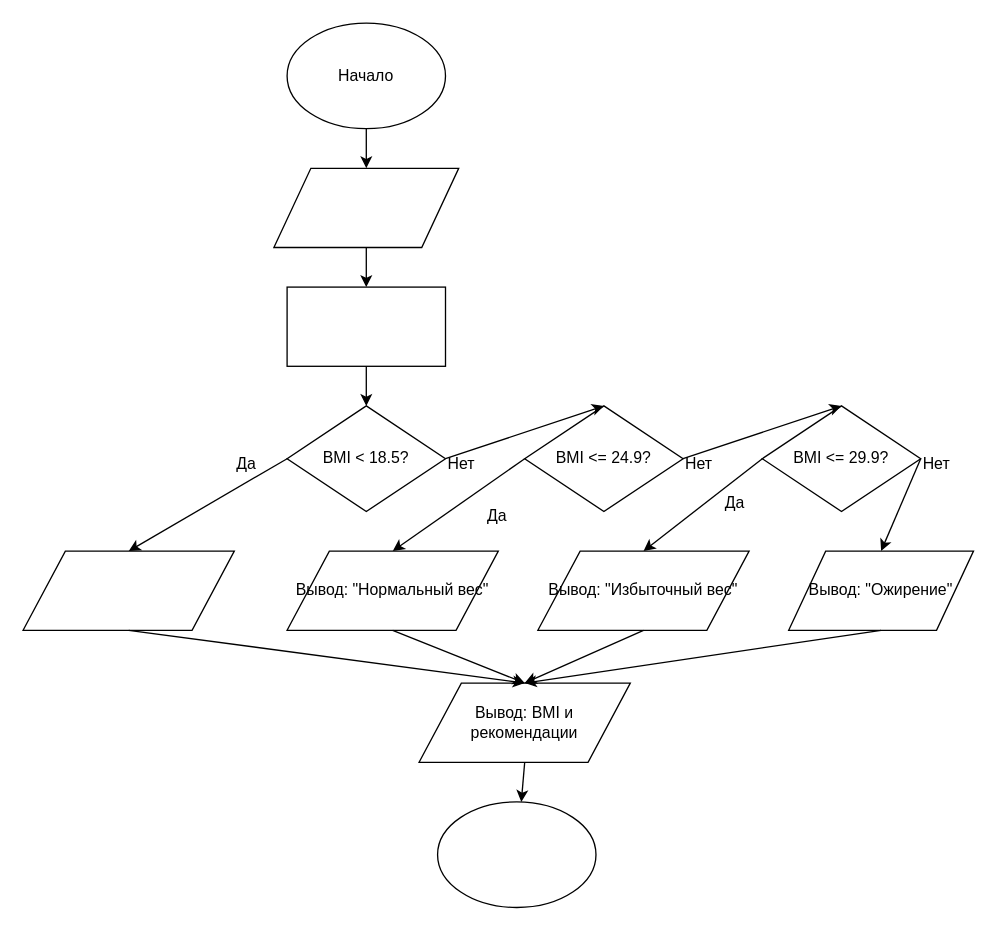
The diagram is 997 pixels wide and 931 high, and some of its shapes have lost their labels. Here are the shapes that lost their labels. From the top down, the centre of each, then its label:
point (366, 207): Ввод: вес (кг), рост (м)
point (366, 326): BMI = вес / (рост²)
point (128, 590): Вывод: "Недостаточный вес"
point (516, 854): Конец
